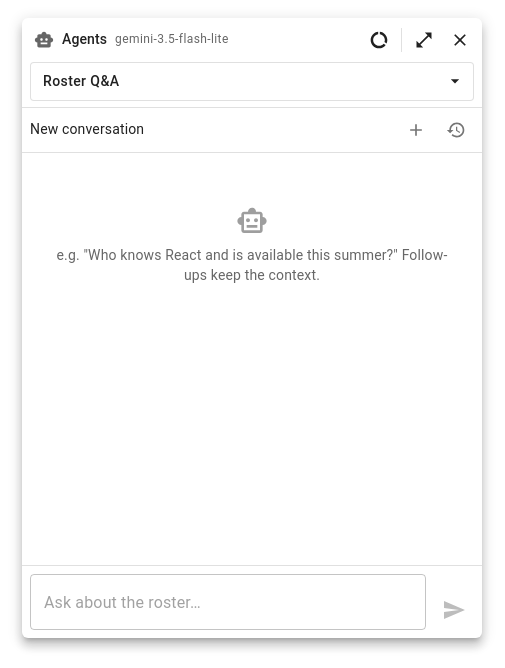
Scenario: a Roster Q&A answer names the model that wrote it › captions the answer and never the question or an error
This screenshot has width=505, height=668.
In the text box with placeholder "Ask about the roster…": (228, 602) left=44, top=590, right=412, bottom=614, type "Who knows React?"
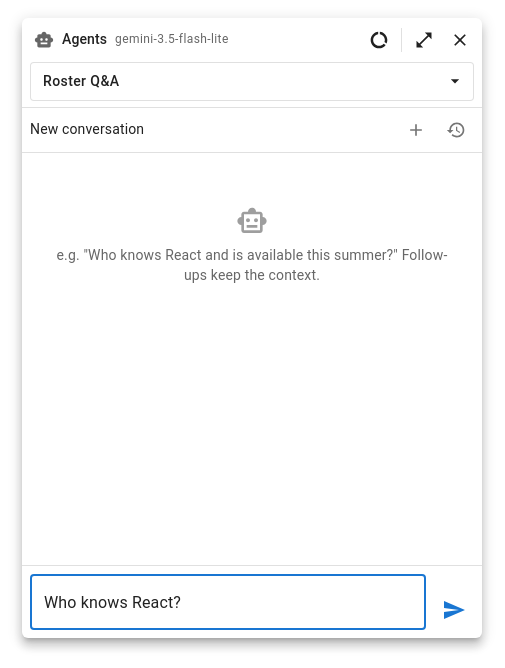
Click the button named "Send": (454, 610) left=434, top=590, right=474, bottom=630
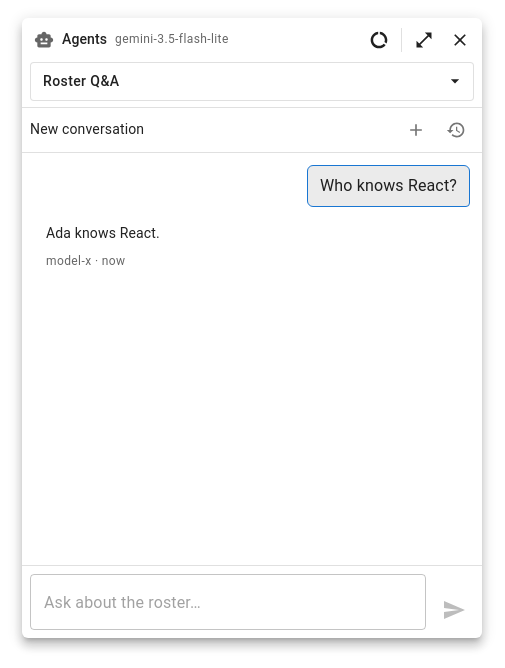
Expected: the text "Ada knows React." is shown, left=46, top=222, right=160, bottom=244
In the text box with placeholder "Ask about the roster…": (228, 602) left=44, top=590, right=412, bottom=614, type "And in July?"
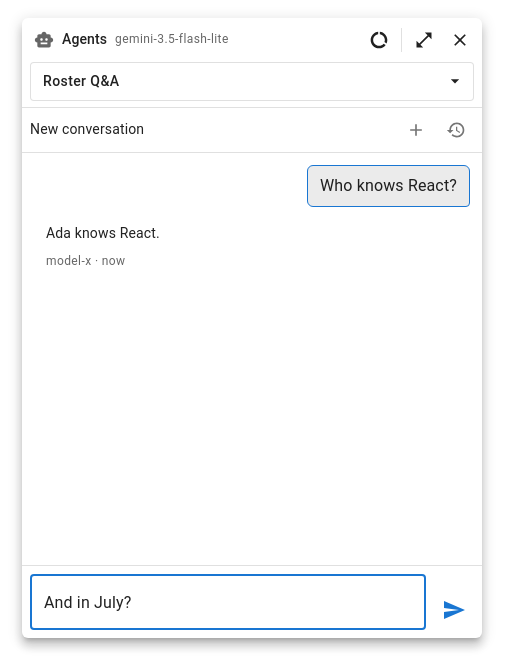
Click the button named "Send": (454, 610) left=434, top=590, right=474, bottom=630
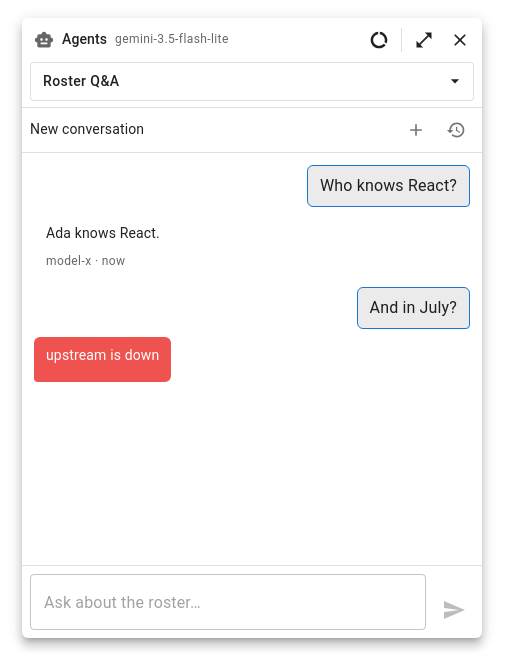
Expected: the text "model-x" is shown once, left=46, top=254, right=92, bottom=268
Expected: the text "upstream is down" is shown, left=46, top=345, right=159, bottom=366
